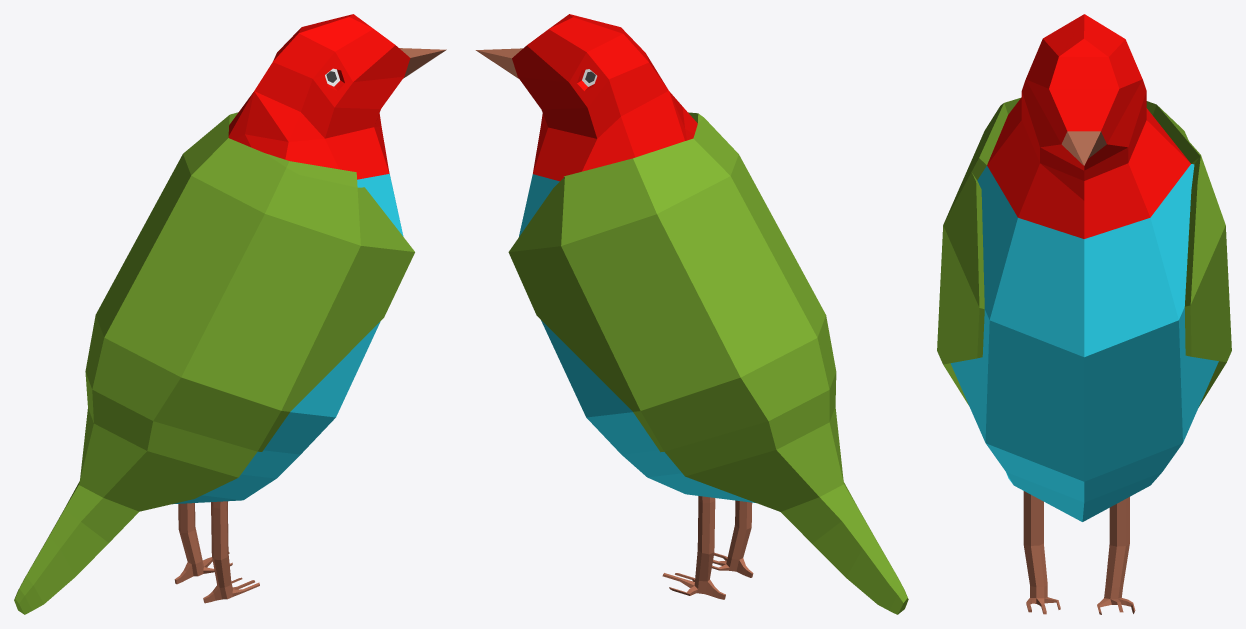
File: Low Poly Bird.fbx
3 views of the same model, side by side, from view 1: azimuth 30°, elevation 25°; view 2: azimuth 150°, elevation 25°; view 3: azimuth 270°, elevation 25° (orthographic). The views are drawn at different scales.
Parts seen in each view (by area): view 1: Cylinder; view 2: Cylinder; view 3: Cylinder.
Boxes of the visible parts, bbox=[...] form: Cylinder: bbox=[14, 14, 446, 614]; Cylinder: bbox=[475, 14, 908, 614]; Cylinder: bbox=[937, 14, 1231, 614].
Bounding box in the file's own units: 447 × 529 × 217.
